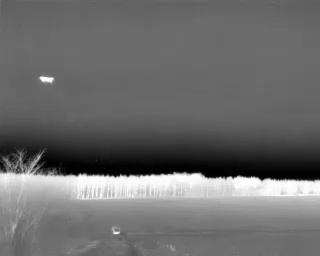DRONE: (35, 72, 58, 89)
